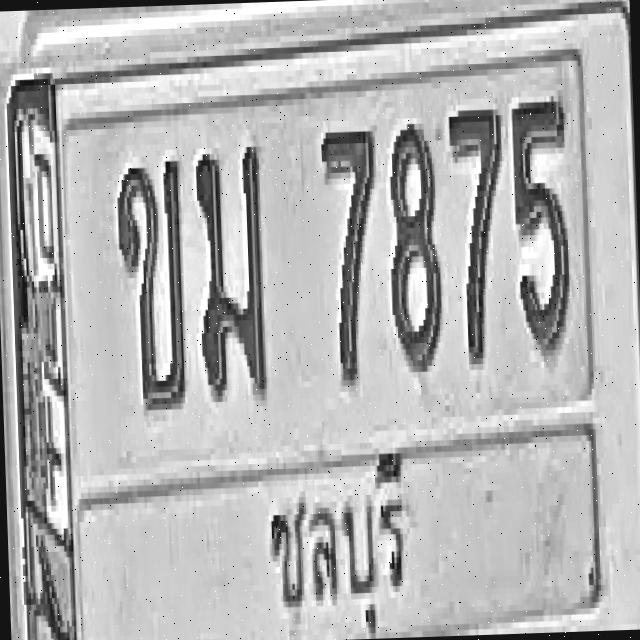11KhorKhai: (114, 155, 188, 411)
42MorMa: (193, 140, 268, 402)
5: (510, 95, 572, 356)
7: (319, 125, 382, 386), (446, 103, 508, 364)
8: (384, 117, 442, 372)
Chonburi: (257, 420, 428, 640)
